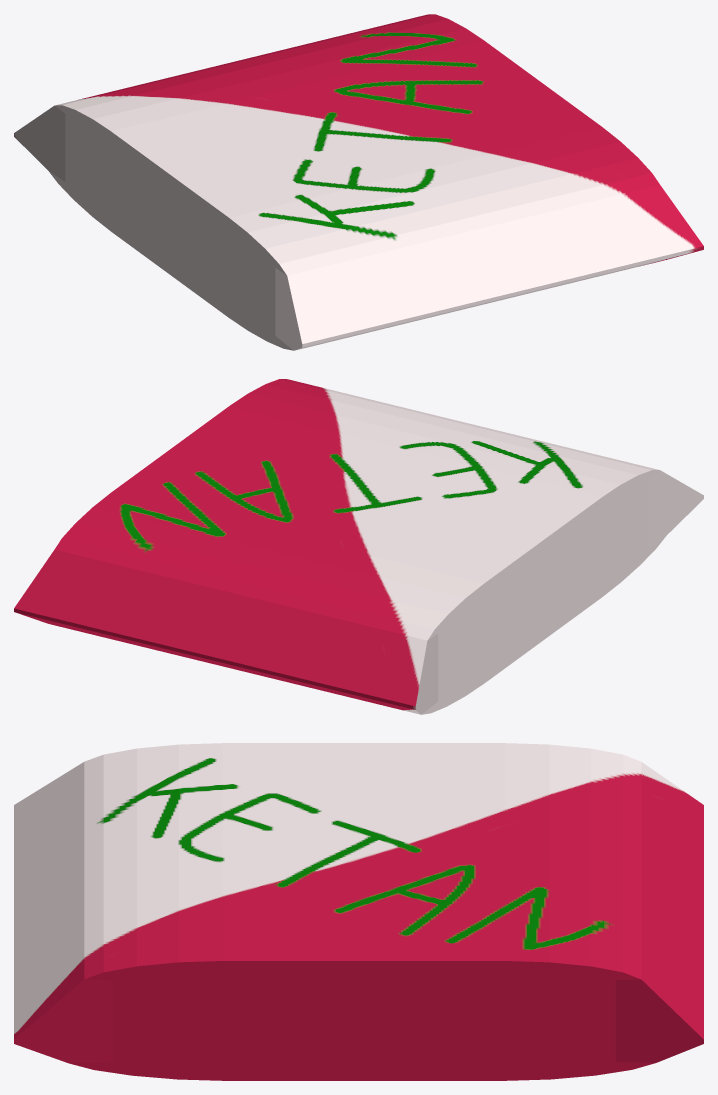
Rendered from Collectible Item.fbx_Ketan.fbx.
3 renders of one model, top to bottom at view 1: azimuth 30°, elevation 25°; view 2: azimuth 150°, elevation 25°; view 3: azimuth 270°, elevation 25°, orthographic. The views are drawn at different scales.
Parts seen in each view (by area): view 1: Ketan; view 2: Ketan; view 3: Ketan.
Part boxes in pixels (x1=…): Ketan: x1=14, y1=14, x2=703, y2=350; Ketan: x1=14, y1=379, x2=703, y2=714; Ketan: x1=14, y1=743, x2=703, y2=1080.
Bounding box in the file's own units: 3.58 × 0.8536 × 4.45.
1 material, 1 textured.
